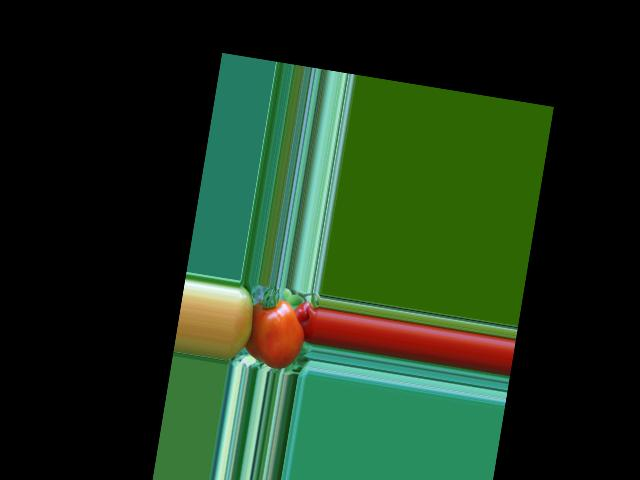tomato: (245, 295, 309, 372)
